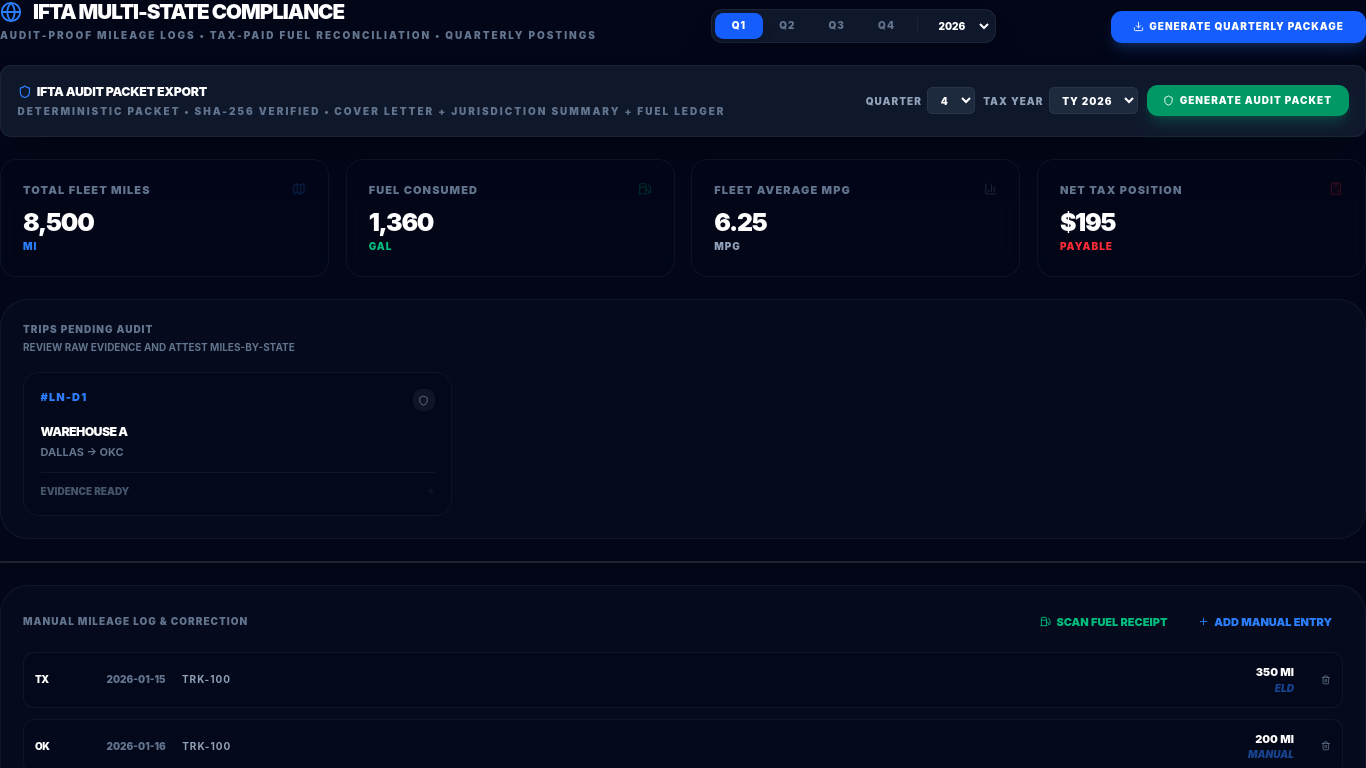
IFTAManager component › opens mileage form when Add Manual Entry is clicked
The image size is (1366, 768).
Click the button "Add Manual Entry".
click(1265, 622)  # box [1187,608,1343,636]
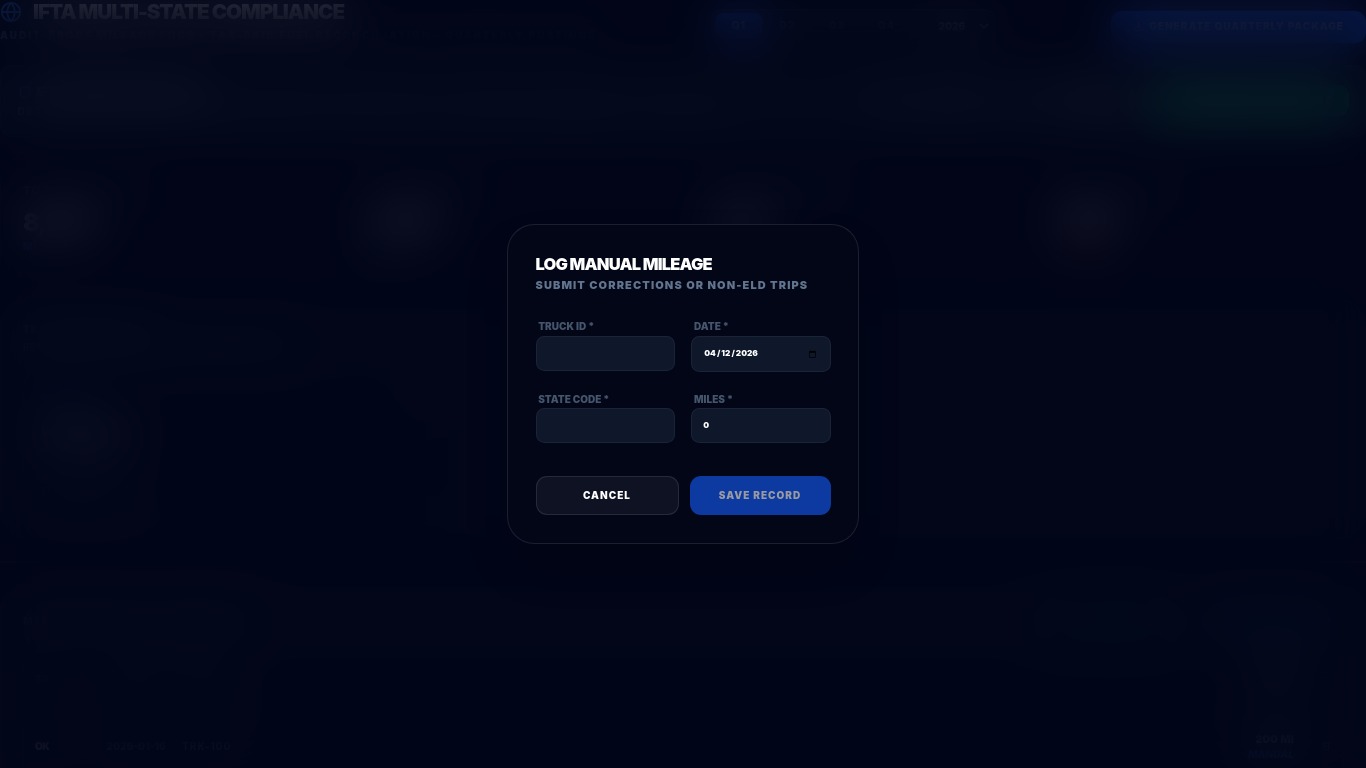
Check: the heading "Log Manual Mileage" is shown, box [536,254,712,274]
Check: the text "Submit corrections or non-ELD trips" is shown, box [536,278,830,294]
